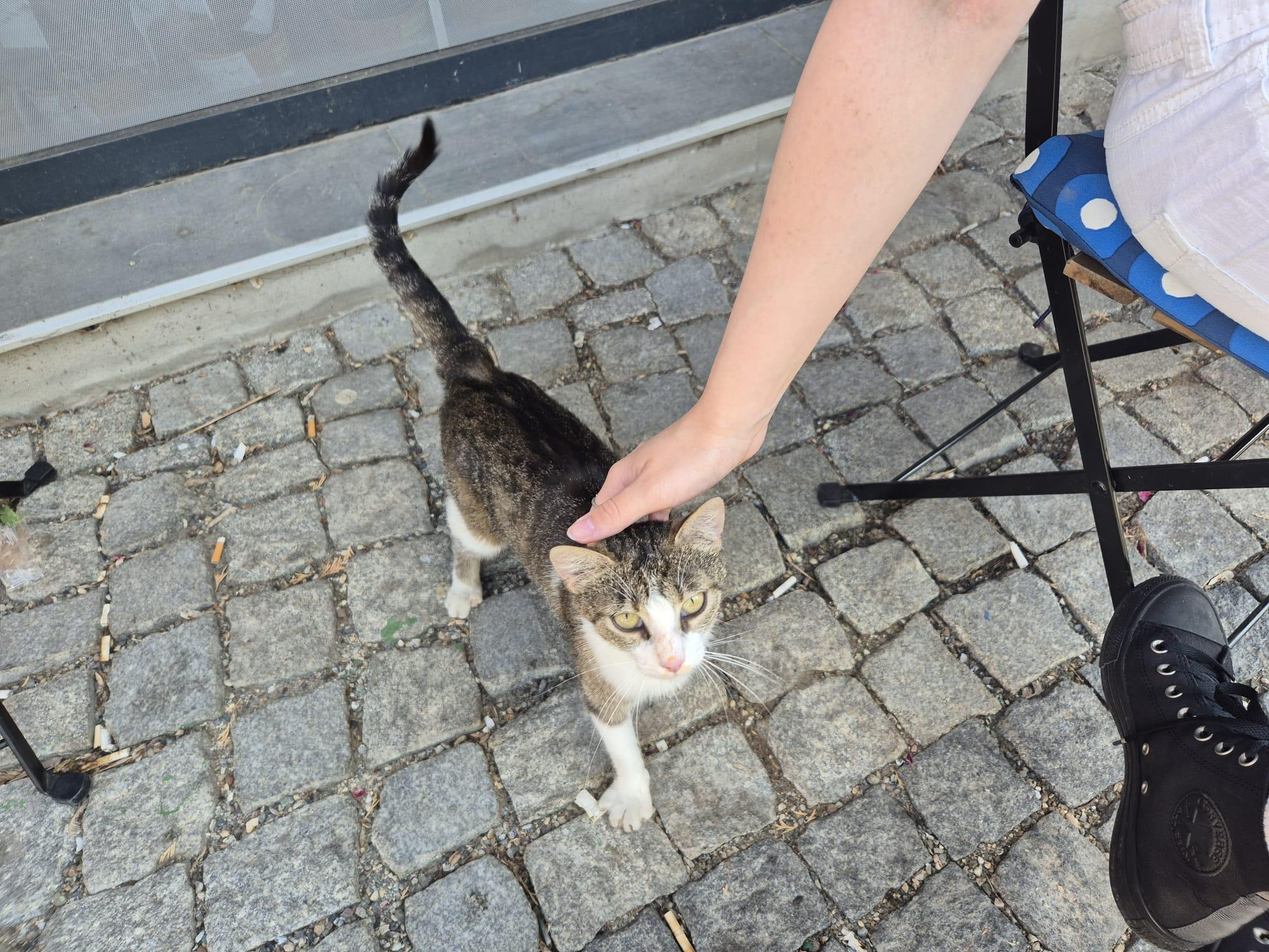macka: (366, 116, 727, 831)
